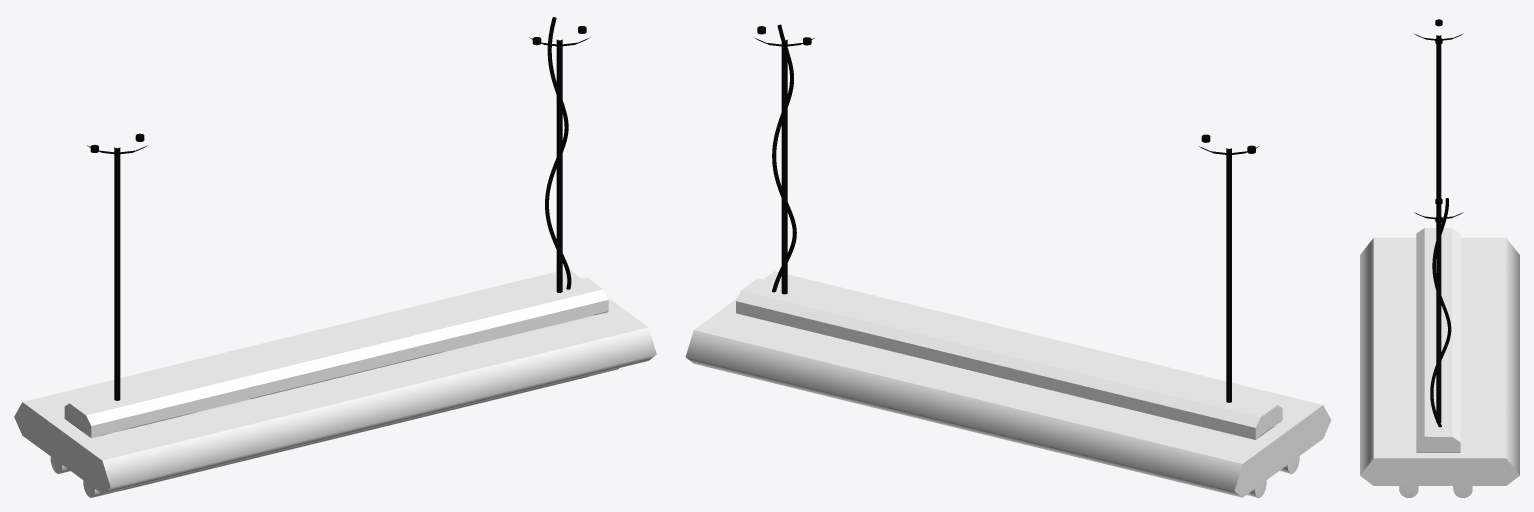
Rendered from Flourescent Light.fbx.
The picture shows the model from 3 angles, left to right: view 1: azimuth 30°, elevation 25°; view 2: azimuth 150°, elevation 25°; view 3: azimuth 270°, elevation 25°; orthographic projection. The views are drawn at different scales.
Parts seen in each view (by area): view 1: Casing, Light; view 2: Casing; view 3: Casing.
Part boxes in pixels (x1,y1,x2,y2): Casing: [14, 17, 656, 497]; Light: [123, 375, 589, 490]; Casing: [685, 24, 1331, 497]; Casing: [1360, 19, 1519, 497].
Bounding box in the file's own units: 675 × 406 × 207.
